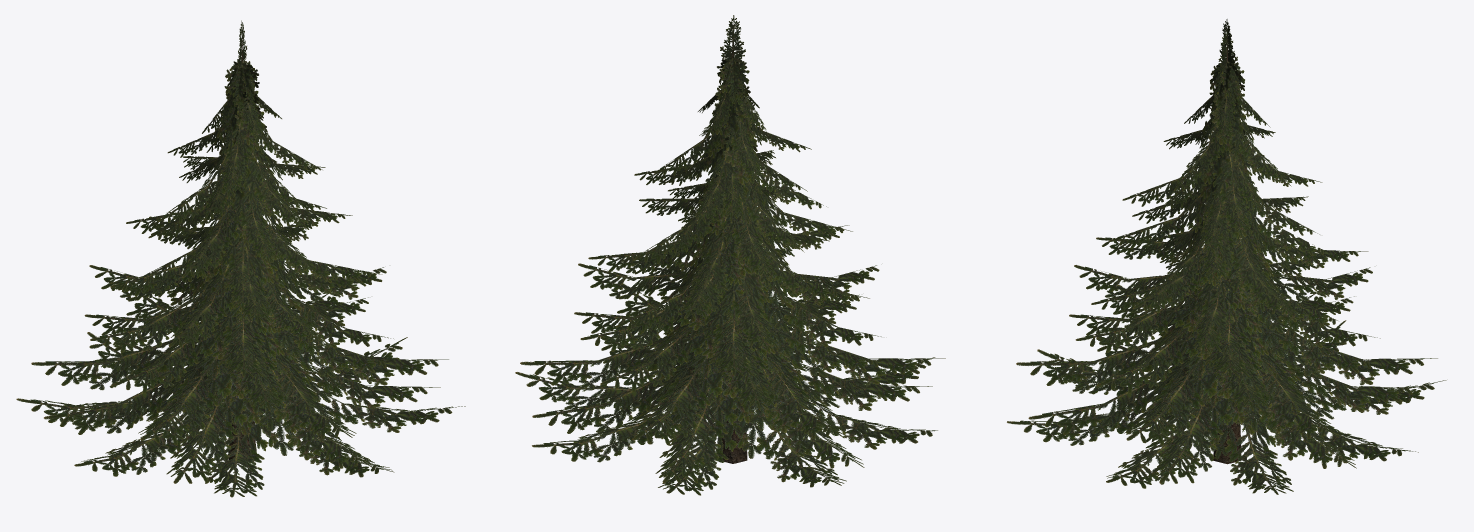
File: pine.glb
3 views of the same model, side by side, from view 1: azimuth 30°, elevation 25°; view 2: azimuth 150°, elevation 25°; view 3: azimuth 270°, elevation 25° (orthographic).
Parts seen in each view (by area): view 1: pine; view 2: pine; view 3: pine.
Part boxes in pixels (x1,y1,x2,y2): pine: (16, 20, 465, 497); pine: (515, 15, 945, 495); pine: (1007, 19, 1446, 494).
Size of the model in its own units: 0.9602 by 1 by 0.9603.
1 material, 1 textured.
